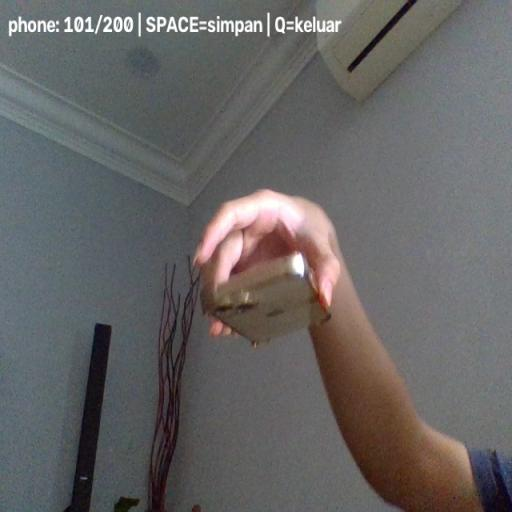Phone: (202, 250, 332, 348)
